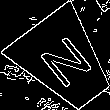N_SE: (32, 30, 98, 94)
